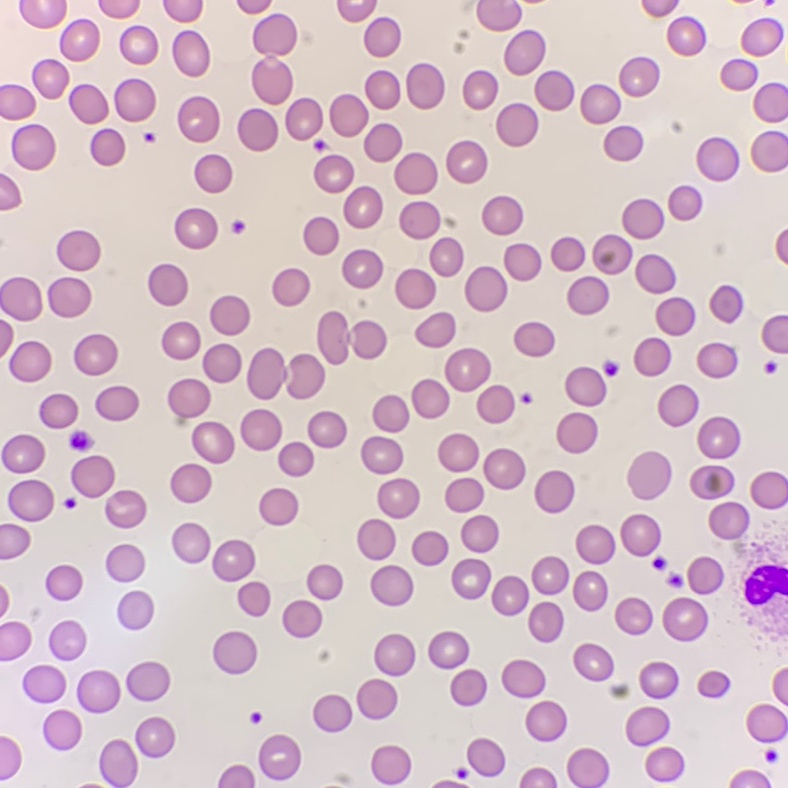RBC: (252, 14, 296, 104), (247, 348, 324, 399), (317, 311, 386, 363), (709, 502, 747, 558), (11, 124, 55, 169), (168, 379, 210, 426), (628, 452, 670, 499), (445, 348, 490, 391), (663, 597, 706, 640), (504, 30, 545, 75), (465, 266, 506, 311), (8, 480, 53, 521), (178, 96, 218, 142), (496, 103, 538, 146), (71, 455, 114, 497), (213, 631, 256, 673), (259, 735, 300, 779), (192, 421, 234, 463), (697, 137, 738, 180), (0, 277, 41, 320), (74, 334, 117, 375), (100, 739, 137, 786), (114, 79, 155, 121), (212, 540, 254, 581), (78, 671, 120, 712), (57, 230, 100, 270), (406, 63, 444, 108), (697, 417, 738, 458), (446, 141, 486, 183), (394, 153, 436, 193), (175, 208, 217, 248), (48, 277, 90, 317), (483, 449, 525, 489), (1, 434, 44, 473), (172, 31, 209, 76), (622, 199, 663, 239), (9, 341, 50, 381), (241, 409, 281, 450), (557, 412, 597, 453), (371, 565, 412, 605), (374, 634, 414, 675), (238, 108, 277, 150), (343, 186, 382, 228), (621, 514, 660, 556), (127, 662, 169, 701), (626, 706, 668, 745), (357, 679, 397, 719), (60, 19, 99, 60), (148, 264, 187, 305), (378, 479, 419, 518), (567, 748, 608, 787), (330, 94, 368, 136), (580, 84, 620, 123), (593, 234, 632, 274), (342, 249, 382, 288), (395, 269, 435, 308), (658, 385, 697, 425), (567, 276, 608, 314), (535, 471, 573, 512), (502, 660, 544, 697), (619, 57, 658, 96), (69, 84, 108, 123), (635, 254, 674, 293), (210, 296, 249, 335), (526, 701, 565, 740), (535, 70, 573, 110), (482, 196, 522, 234), (565, 367, 605, 405), (171, 464, 211, 502), (452, 559, 490, 599), (136, 717, 174, 757), (285, 98, 322, 139), (361, 436, 402, 473), (358, 519, 395, 560), (655, 297, 694, 335), (411, 379, 449, 418), (172, 523, 210, 562), (371, 745, 410, 783), (399, 201, 439, 238), (438, 434, 478, 471), (105, 490, 145, 527), (95, 386, 138, 420), (203, 344, 241, 382), (576, 525, 614, 563), (314, 155, 353, 192), (282, 600, 321, 637), (747, 704, 786, 741), (742, 19, 782, 55), (751, 131, 787, 171), (428, 632, 468, 668), (690, 465, 733, 498), (667, 17, 704, 55), (364, 123, 401, 161), (194, 154, 231, 192), (162, 322, 200, 359), (477, 385, 514, 423), (259, 488, 297, 525), (106, 544, 144, 581), (44, 710, 81, 748), (364, 17, 400, 56), (492, 576, 528, 615), (26, 665, 65, 701), (415, 312, 455, 347), (120, 26, 157, 63), (615, 597, 652, 634), (467, 738, 504, 775), (308, 411, 346, 447), (532, 556, 568, 594), (574, 644, 612, 680), (639, 662, 677, 698), (313, 695, 351, 731), (33, 59, 68, 98), (504, 243, 540, 280), (461, 515, 498, 551), (463, 71, 498, 109), (365, 70, 399, 109), (514, 322, 553, 356), (697, 343, 736, 377), (529, 602, 563, 641), (477, 0, 521, 30), (273, 269, 309, 305), (751, 472, 787, 508), (303, 217, 338, 254), (634, 338, 669, 375), (373, 395, 408, 432), (50, 621, 85, 658), (604, 126, 642, 160), (39, 394, 77, 428), (445, 478, 483, 512), (754, 83, 787, 122), (573, 571, 606, 610), (19, 0, 66, 27), (451, 669, 486, 705), (90, 128, 124, 165), (119, 591, 153, 628), (688, 557, 722, 593), (430, 238, 462, 276), (0, 85, 35, 119), (278, 442, 313, 476), (412, 531, 447, 565), (46, 565, 81, 599), (307, 565, 342, 599), (646, 747, 682, 780), (710, 286, 741, 322), (0, 622, 30, 659), (551, 237, 584, 270), (668, 186, 700, 220), (238, 582, 270, 616), (721, 59, 756, 90), (0, 524, 29, 558), (762, 315, 787, 353), (0, 736, 20, 778), (163, 0, 202, 21), (337, 0, 376, 21), (218, 765, 254, 787), (698, 671, 727, 696), (0, 174, 20, 210), (520, 768, 556, 787), (730, 770, 768, 787), (99, 0, 136, 17), (642, 0, 678, 17), (122, 706, 148, 725), (773, 668, 787, 703), (0, 321, 13, 353), (238, 0, 269, 13), (71, 430, 92, 449), (776, 231, 787, 261), (773, 611, 787, 634), (610, 684, 629, 699), (0, 587, 8, 613), (603, 361, 616, 374), (436, 781, 459, 787), (231, 221, 242, 232), (669, 574, 678, 585), (464, 0, 473, 10), (314, 140, 324, 149), (84, 753, 94, 762), (145, 133, 155, 141)
